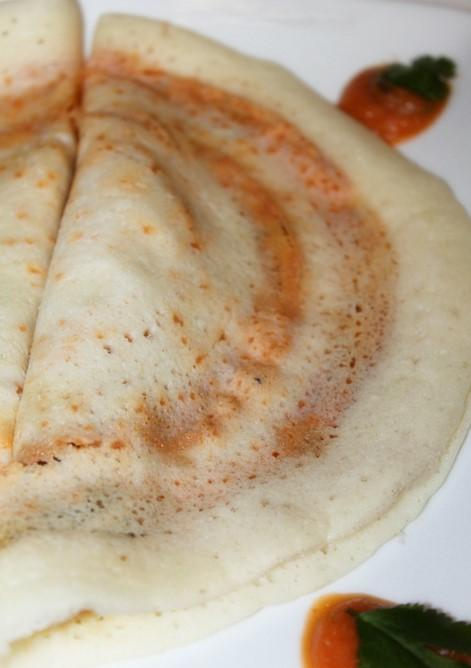Dosa: (0, 14, 471, 653), (0, 0, 89, 467)
